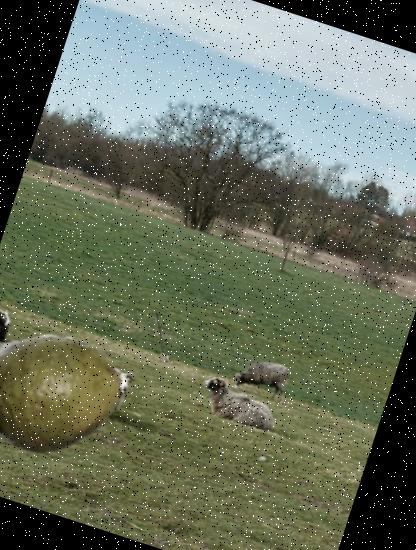Guava: (0, 306, 142, 479)
